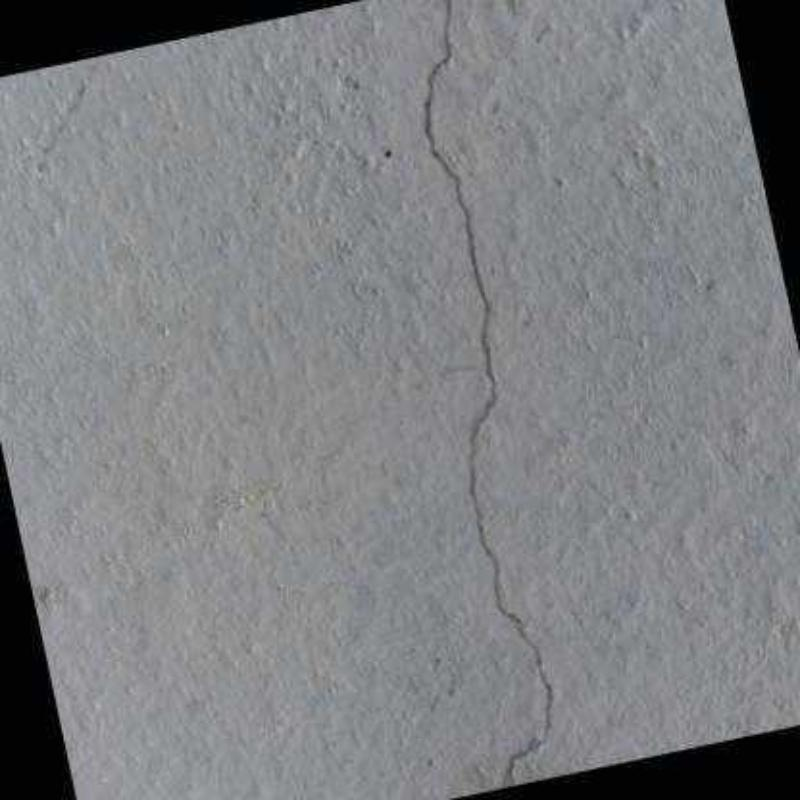crack: (426, 4, 553, 791)
